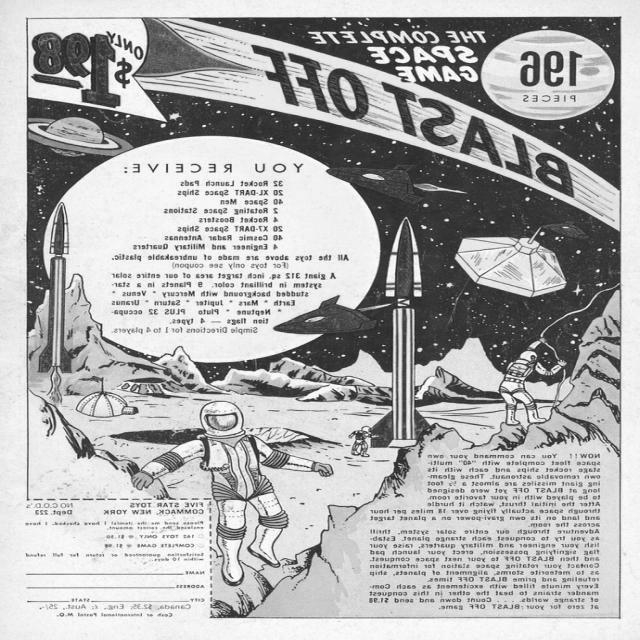missile: (380, 218, 428, 449), (39, 203, 74, 375)
